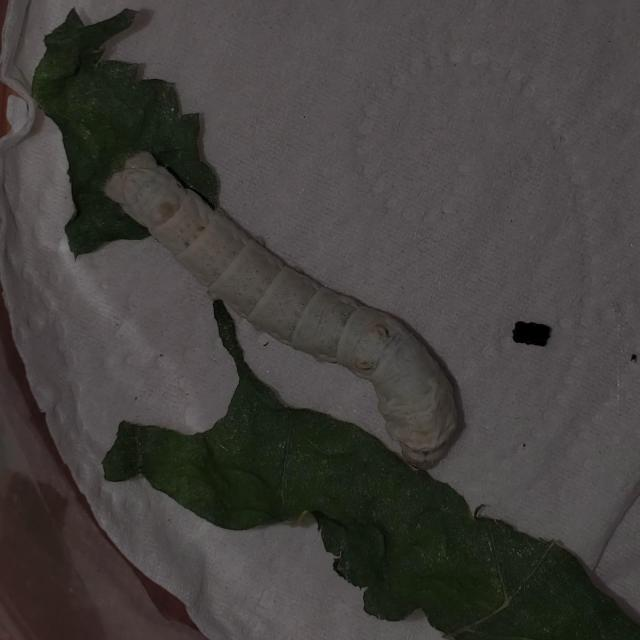Healthy: (79, 102, 477, 486)
